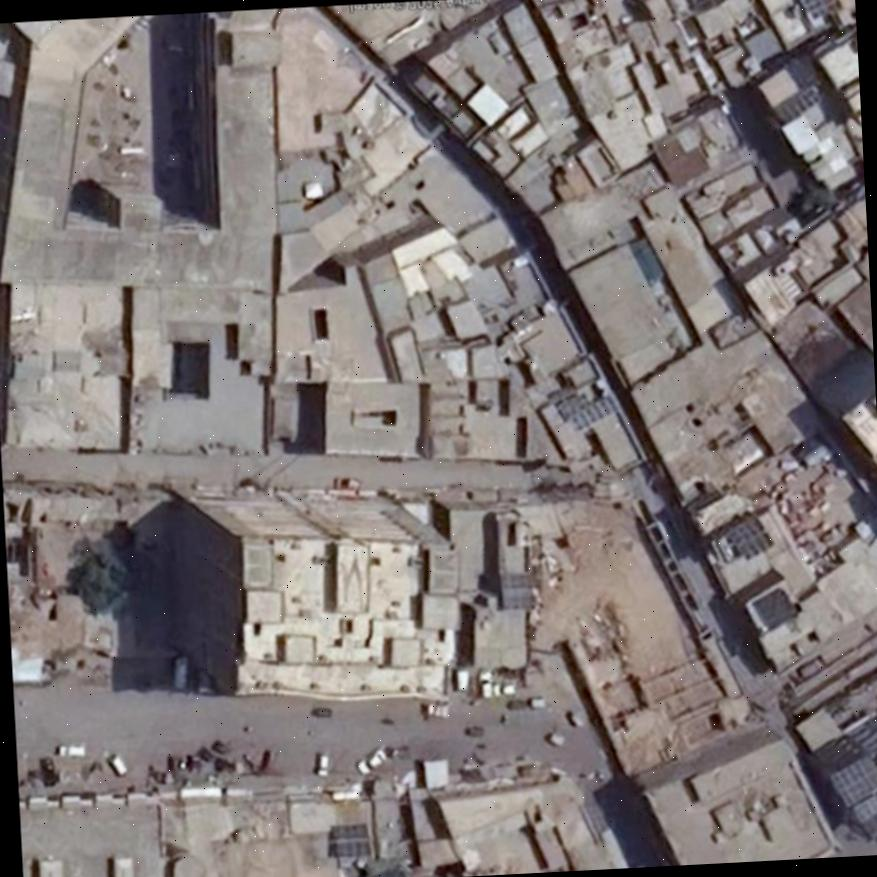Solarpanel: (830, 754, 877, 807), (726, 520, 774, 558), (570, 395, 619, 432), (850, 792, 877, 851), (332, 822, 370, 859), (802, 0, 836, 19)
